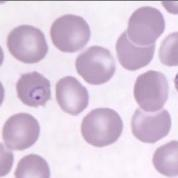Infected: (15, 70, 51, 108)
Uninfected: (131, 99, 171, 142), (116, 25, 154, 70), (50, 14, 91, 53), (81, 108, 122, 147), (133, 70, 170, 113), (76, 46, 116, 85), (127, 6, 166, 45), (7, 25, 47, 63), (3, 112, 40, 151), (55, 75, 89, 115), (152, 140, 178, 178), (15, 153, 50, 178)
